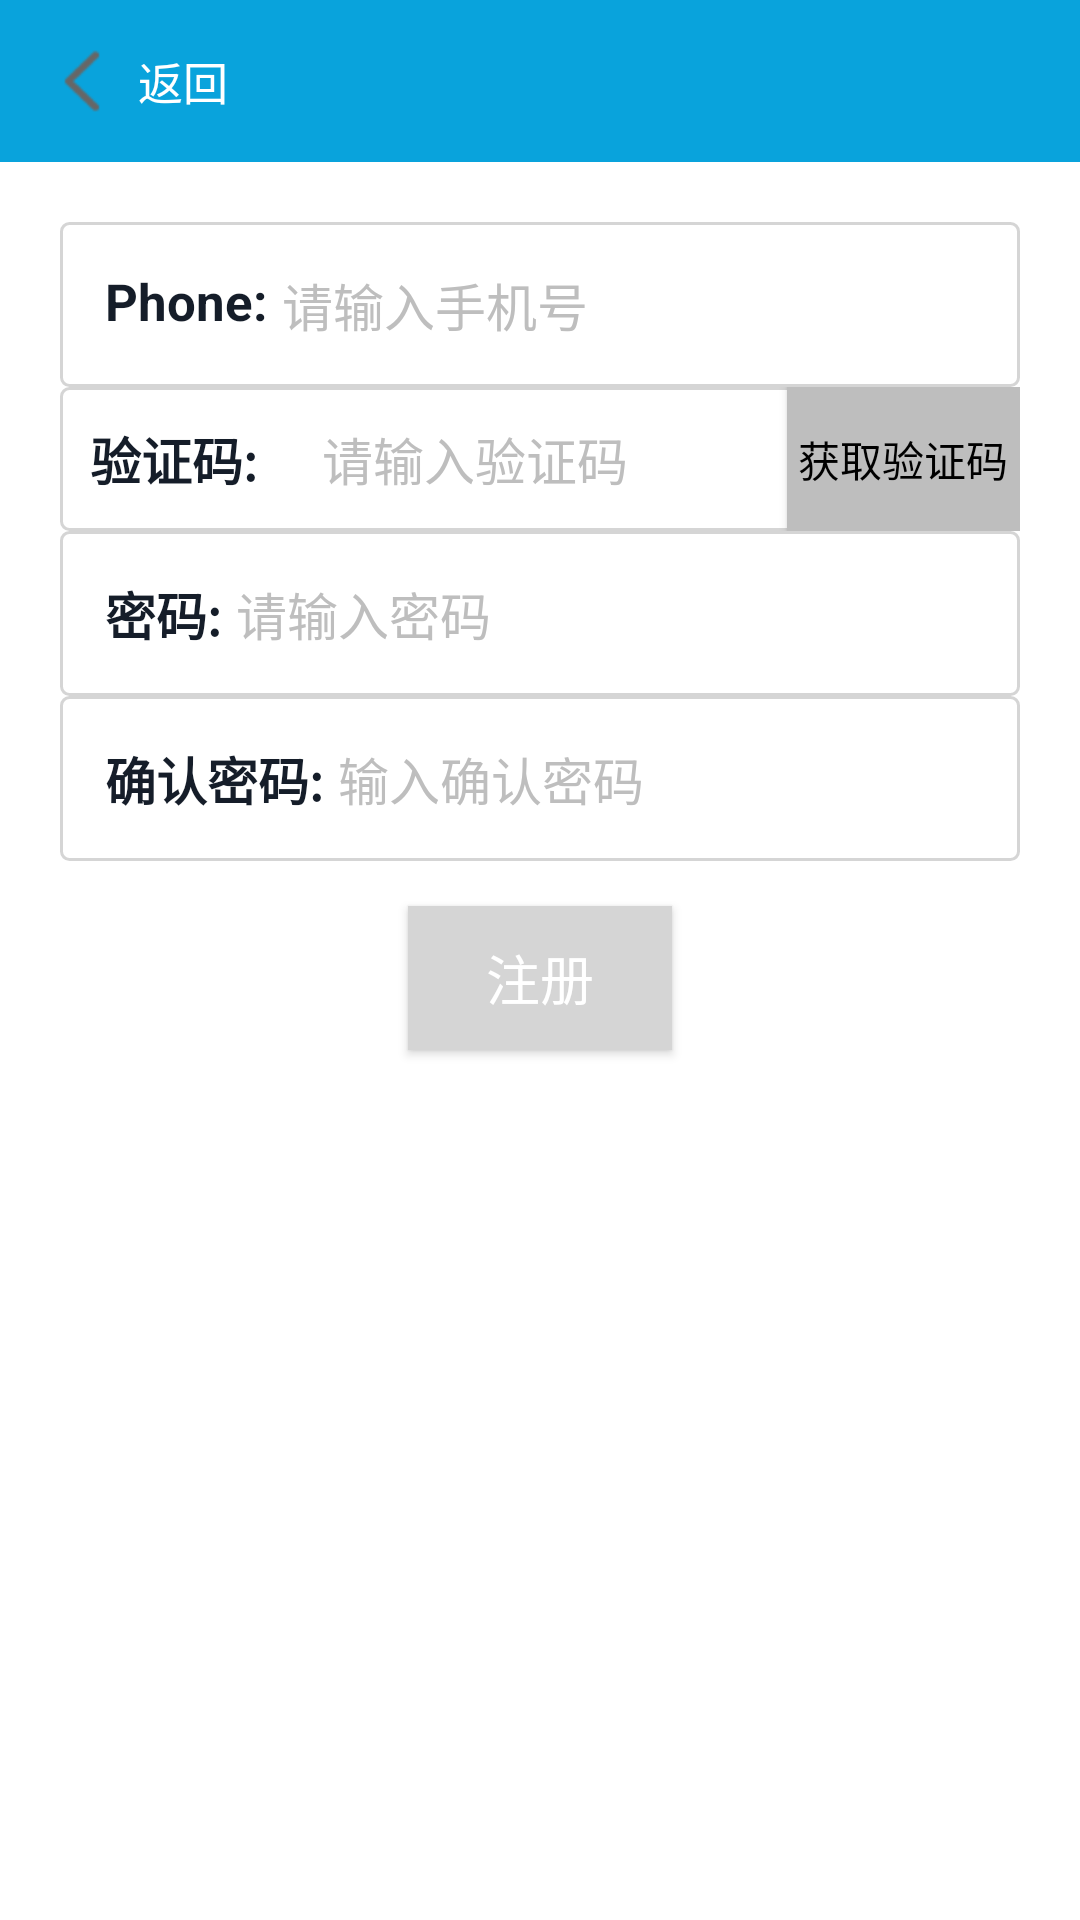

Where icons sit on this 1080x1920 app screen, as bbox(x1, y1, x2, y2):
back: bbox(64, 51, 100, 111)
